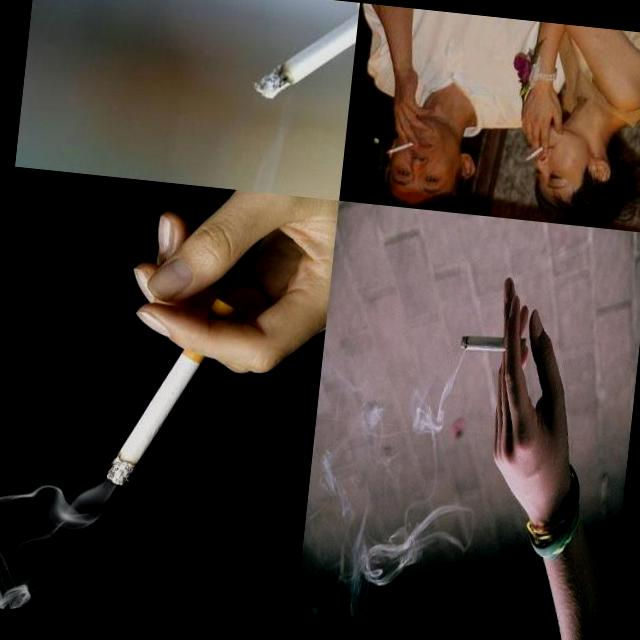smoke: (101, 176, 338, 508), (440, 269, 602, 532), (251, 0, 358, 108), (509, 70, 573, 170), (383, 68, 438, 160)
